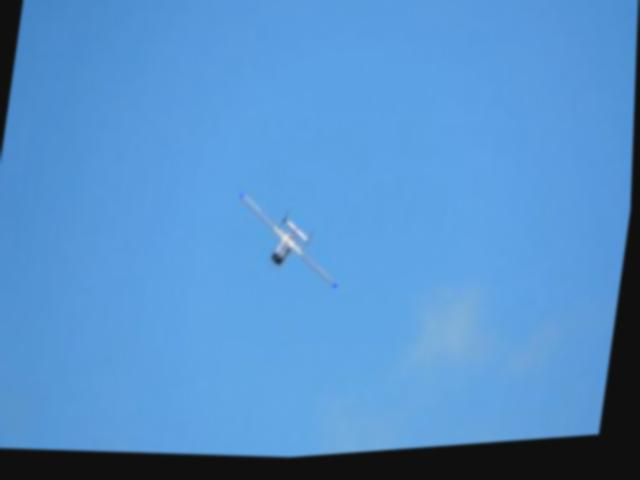uav: (229, 186, 358, 305)
